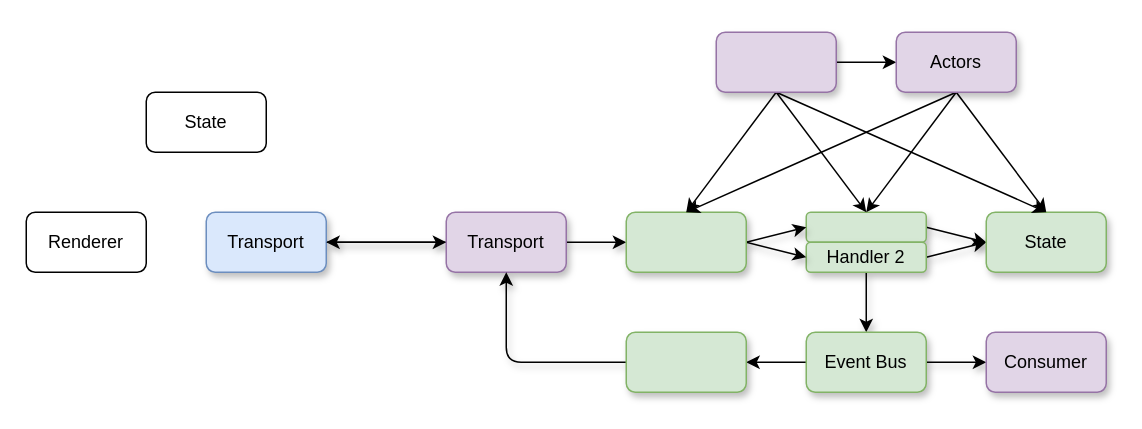
Some shapes in this 1142 by 429 pixel diagram are drawn without their labels. The centre of each missing label's shape, as x and y in pixels:
Command Manager: (687,244)
Components: (777,64)
Event Manager: (687,364)
Handler 1: (867,229)
